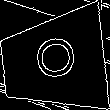O_W: (28, 38, 79, 86)
